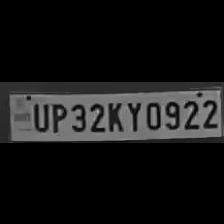0: (142, 97, 160, 130)
2: (87, 99, 105, 133), (181, 96, 199, 130), (200, 94, 216, 128)
3: (68, 99, 86, 133)
9: (161, 97, 179, 131)
K: (104, 99, 124, 133)
P: (49, 100, 67, 132)
U: (29, 98, 48, 132)
Y: (124, 98, 142, 132)
